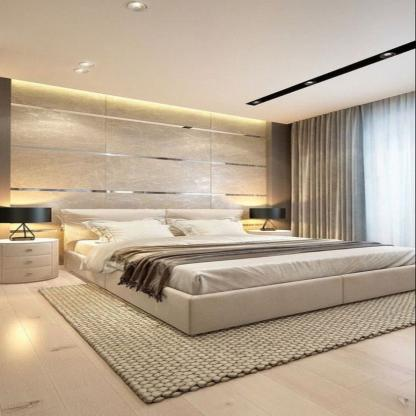Wall Panel: (0, 77, 297, 236)
